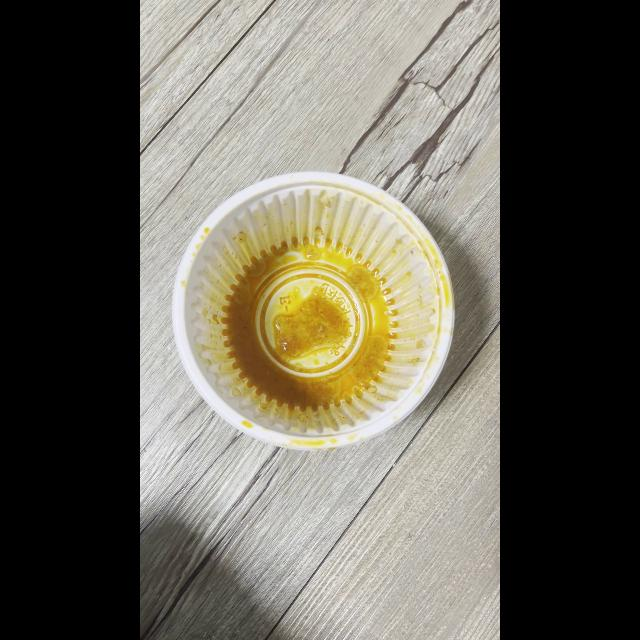dirty: (178, 199, 458, 451)
